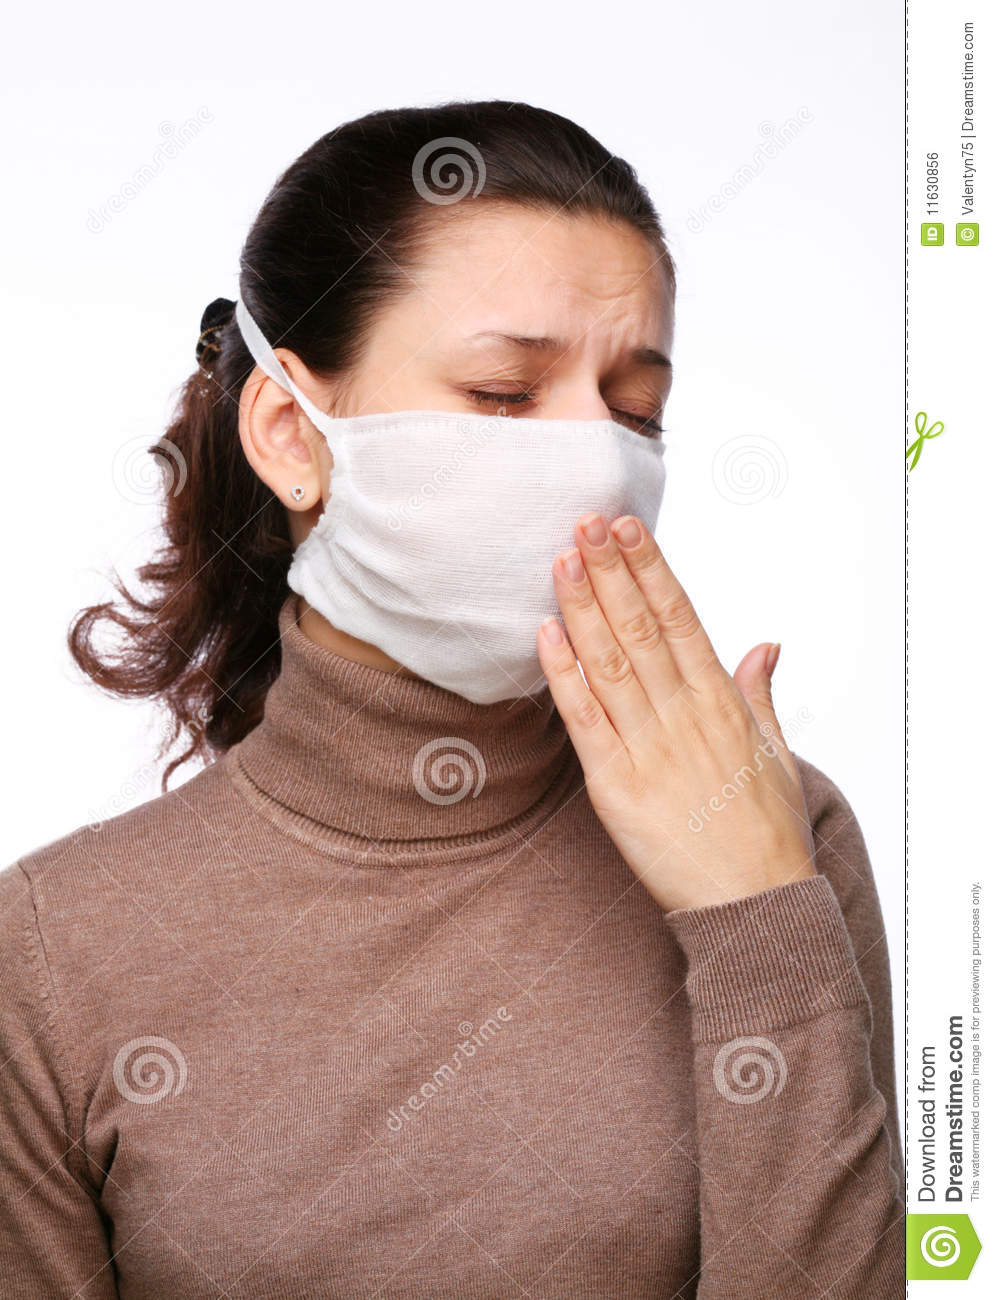mask: (288, 414, 669, 704)
